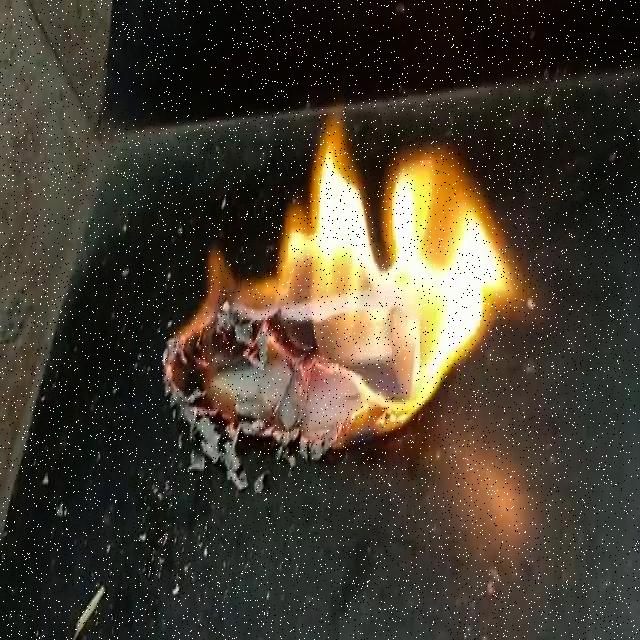fire: (180, 107, 530, 446)
